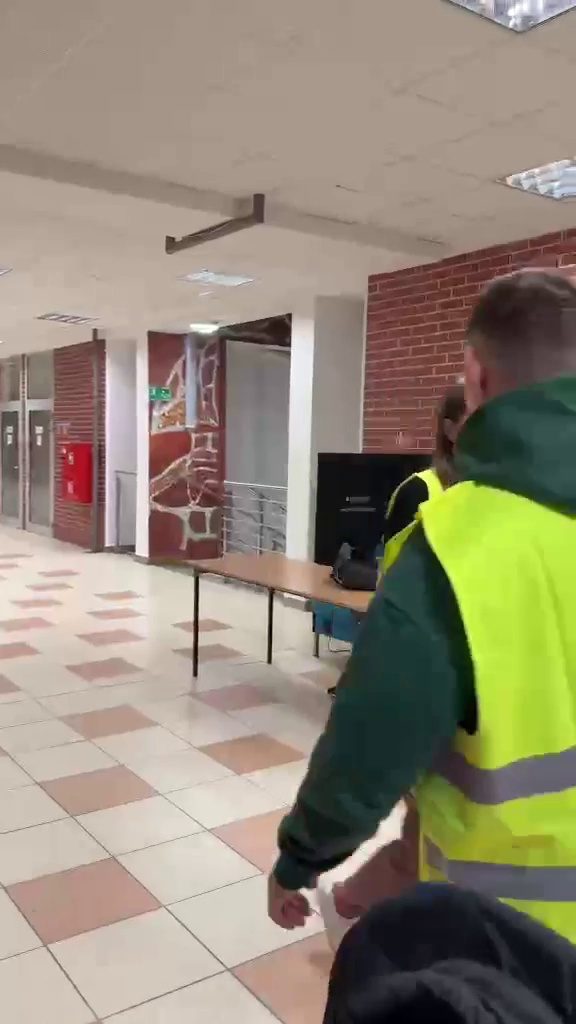vest: (353, 272, 576, 922)
